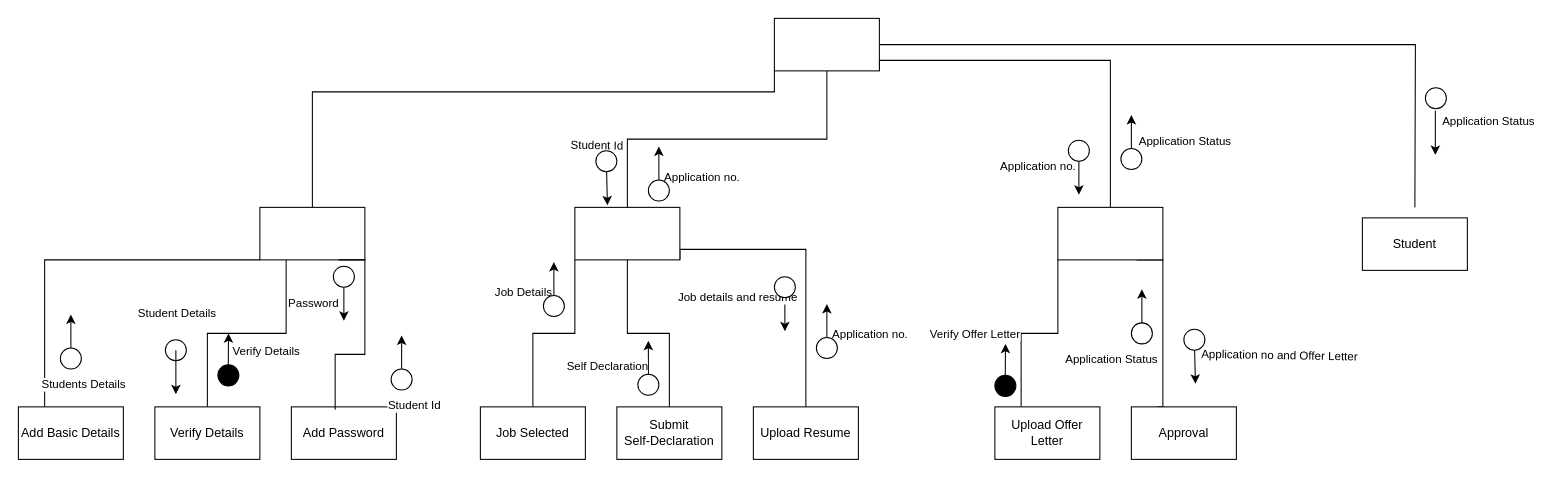
Image size: 1553x478. Some labels were removed from this diagram. The centre of each missing label's shape, as x and y in pixels:
"Account Creation" goes at pixel 312 233.
"Co-ordinator Approval" goes at pixel 1110 233.
"Job Application" goes at pixel 627 233.
"PMS" goes at pixel 826 44.
